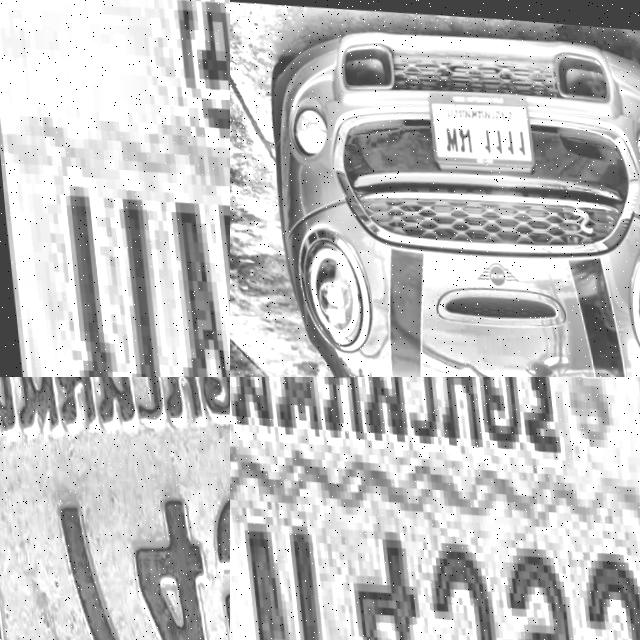license-plate: (230, 377, 640, 640), (0, 0, 230, 377), (0, 377, 230, 640), (419, 73, 538, 178)
